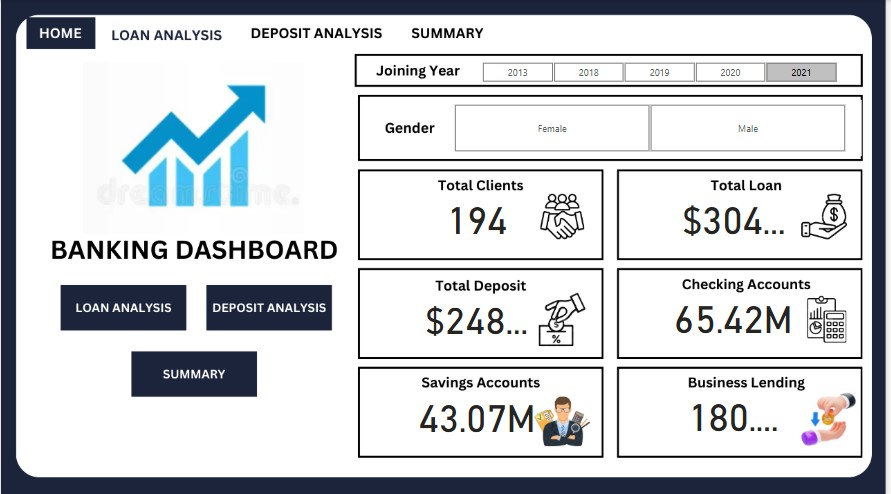

The page's visual inventory and layout, read from the dashboard file:
{"tool":"powerbi","page":{"name":"Home ","canvas":[1280,720],"ordinal":0},"visuals":[{"type":"card","fields":{"Values":["banking_case customer.Name"]},"box":[580.5,275.2,213.6,74.7],"z":0},{"type":"slicer","fields":{"Values":["banking_case customer.GenderId"]},"box":[629.8,145.2,614.3,81],"z":1000},{"type":"card","fields":{"Values":["banking_case customer.Total Loan"]},"box":[951.4,275.2,214.9,74.7],"z":2000},{"type":"card","fields":{"Values":["banking_case customer.Total Deposit"]},"box":[581.8,419.3,212.3,74.7],"z":3000},{"type":"slicer","fields":{"Values":["banking_case customer.Year of Joining"]},"box":[671.4,83.3,560.7,34.5],"z":4000},{"type":"card","fields":{"Values":["banking_case customer.Saving Accounts"]},"box":[580.5,560.9,213.6,74.7],"z":5000},{"type":"card","fields":{"Values":["banking_case customer.Business Lending"]},"box":[951.4,559.5,213.6,74.7],"z":6000},{"type":"card","fields":{"Values":["banking_case customer.Checking Accounts"]},"box":[951.4,418,213.6,76],"z":7000},{"type":"actionButton","box":[191.5,514.3,175.7,55.4],"z":8000},{"type":"actionButton","box":[348.2,31.7,221.6,39.6],"z":9000},{"type":"actionButton","box":[91.8,417.8,172.5,58.6],"z":10000},{"type":"actionButton","box":[297.5,419.4,185.2,57],"z":11000}]}

Visuals, with their boxes in screenshot pixels (x1, y1, x2, y2), scaled from the page's 1280x720 canvas onto the 891x494 screenshot:
card - banking_case customer.Name: x1=404, y1=189, x2=553, y2=240
slicer - banking_case customer.GenderId: x1=438, y1=100, x2=866, y2=155
card - banking_case customer.Total Loan: x1=662, y1=189, x2=812, y2=240
card - banking_case customer.Total Deposit: x1=405, y1=288, x2=553, y2=339
slicer - banking_case customer.Year of Joining: x1=467, y1=57, x2=858, y2=81
card - banking_case customer.Saving Accounts: x1=404, y1=385, x2=553, y2=436
card - banking_case customer.Business Lending: x1=662, y1=384, x2=811, y2=435
card - banking_case customer.Checking Accounts: x1=662, y1=287, x2=811, y2=339
actionButton: x1=133, y1=353, x2=256, y2=391
actionButton: x1=242, y1=22, x2=397, y2=49
actionButton: x1=64, y1=287, x2=184, y2=327
actionButton: x1=207, y1=288, x2=336, y2=327
